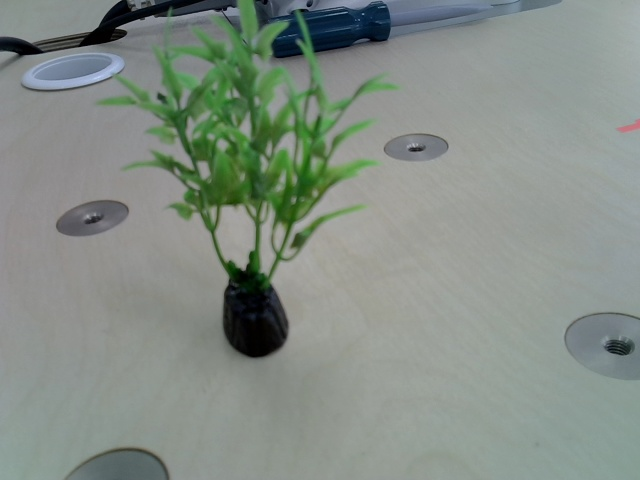튤립새싹: (134, 25, 380, 357)
